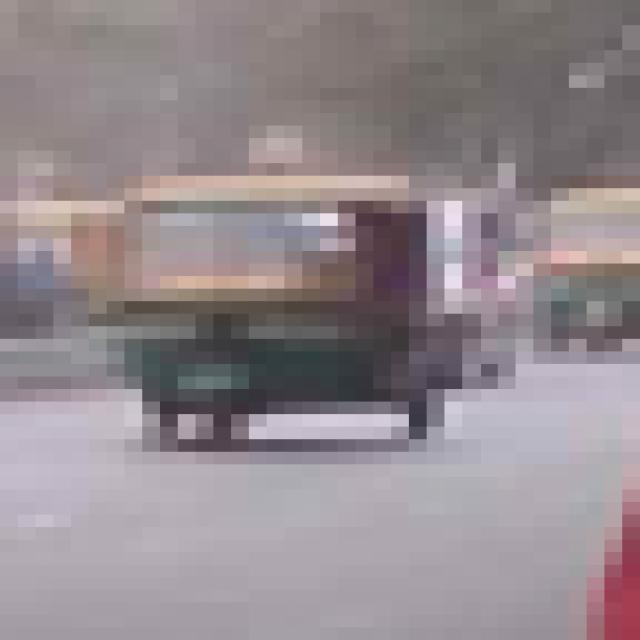autorickshaw: (71, 163, 445, 477)
